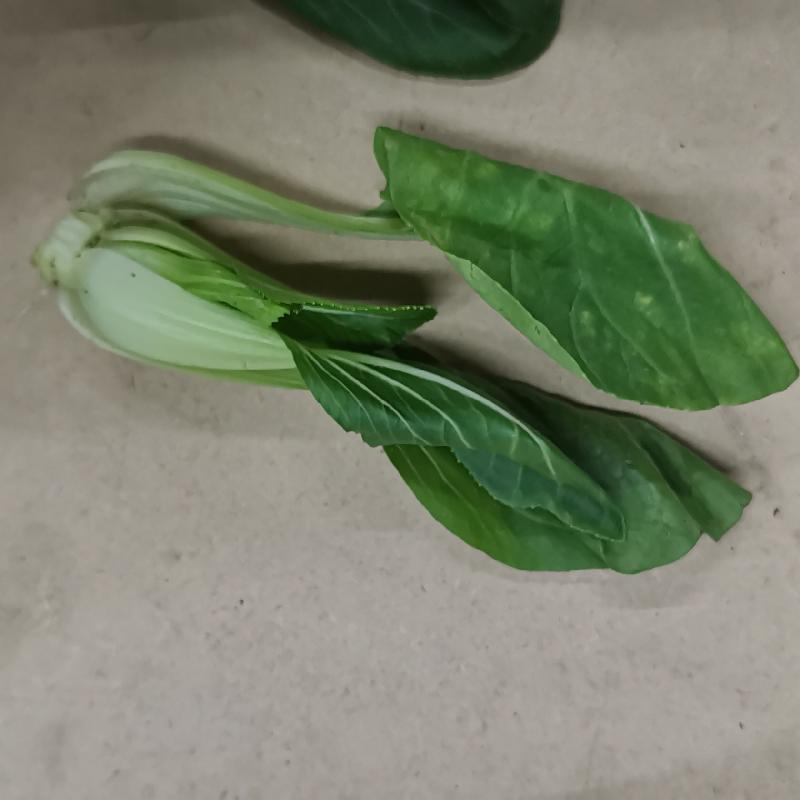green vegatable: (24, 124, 799, 574)
